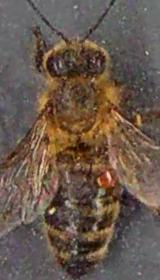varroa_mite: (86, 168, 120, 188)
